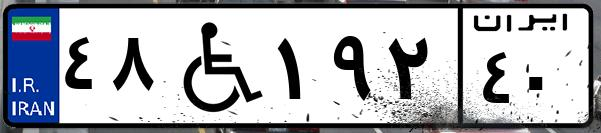0: (525, 38, 570, 115)
1: (270, 28, 330, 110)
2: (385, 28, 445, 110)
4: (57, 26, 110, 100), (475, 38, 525, 113)
8: (110, 28, 158, 98)
9: (330, 28, 385, 110)
ژ (معلولین و جانبازان): (158, 12, 270, 120)
